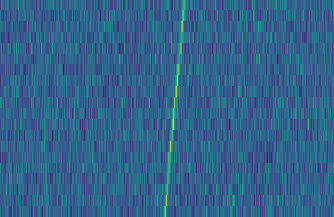signal: (160, 0, 189, 217)
